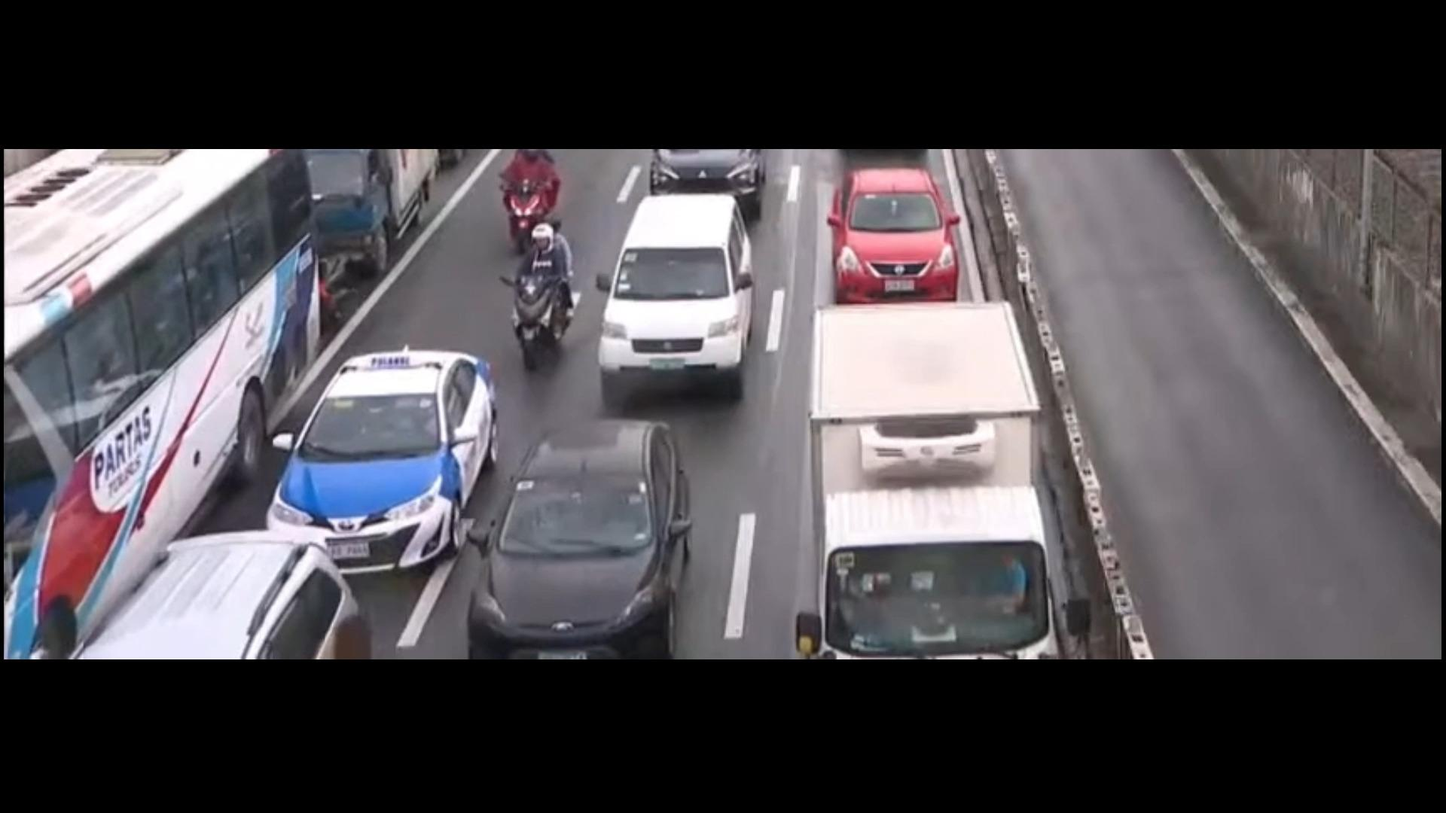Bus: (0, 140, 334, 653)
Motorcycle: (492, 217, 590, 379), (499, 149, 575, 245)
SUV: (587, 187, 776, 412)
Sedan: (244, 315, 526, 569), (455, 414, 701, 663), (833, 140, 989, 310)
Truck: (789, 279, 1105, 671), (290, 143, 452, 288)
